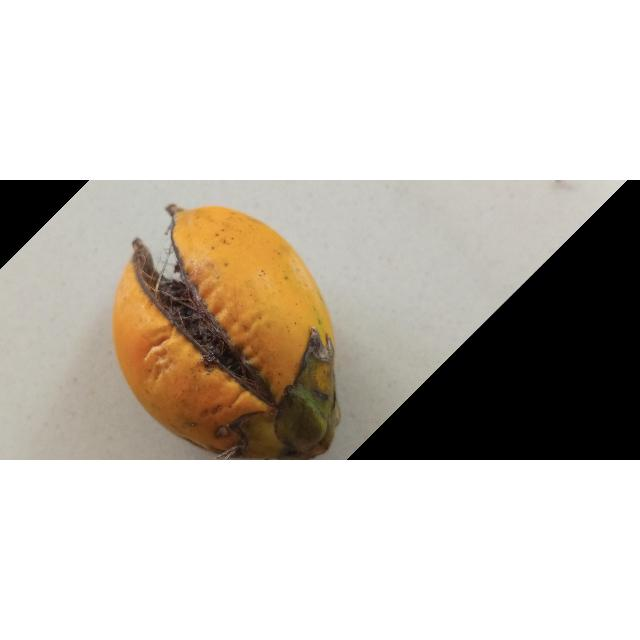damaged: (112, 205, 340, 461)
